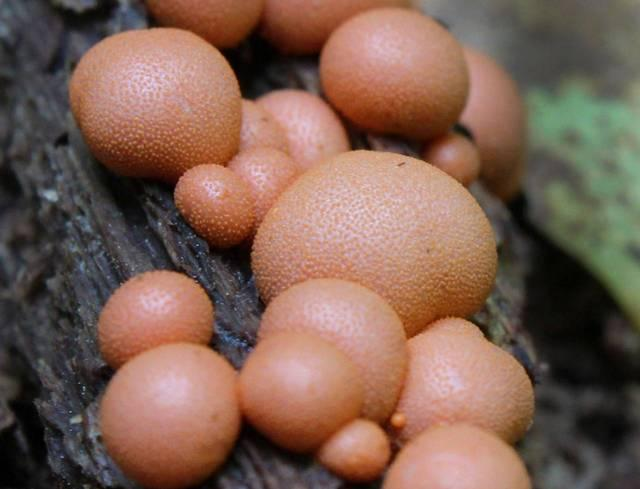Non-edible Mushroom: (66, 0, 539, 488), (248, 148, 499, 336), (67, 25, 243, 182), (254, 276, 408, 423), (96, 340, 241, 488), (317, 5, 471, 140), (389, 315, 536, 447), (237, 329, 365, 451), (96, 268, 214, 369), (378, 420, 533, 488), (261, 0, 411, 54), (141, 0, 265, 48)
